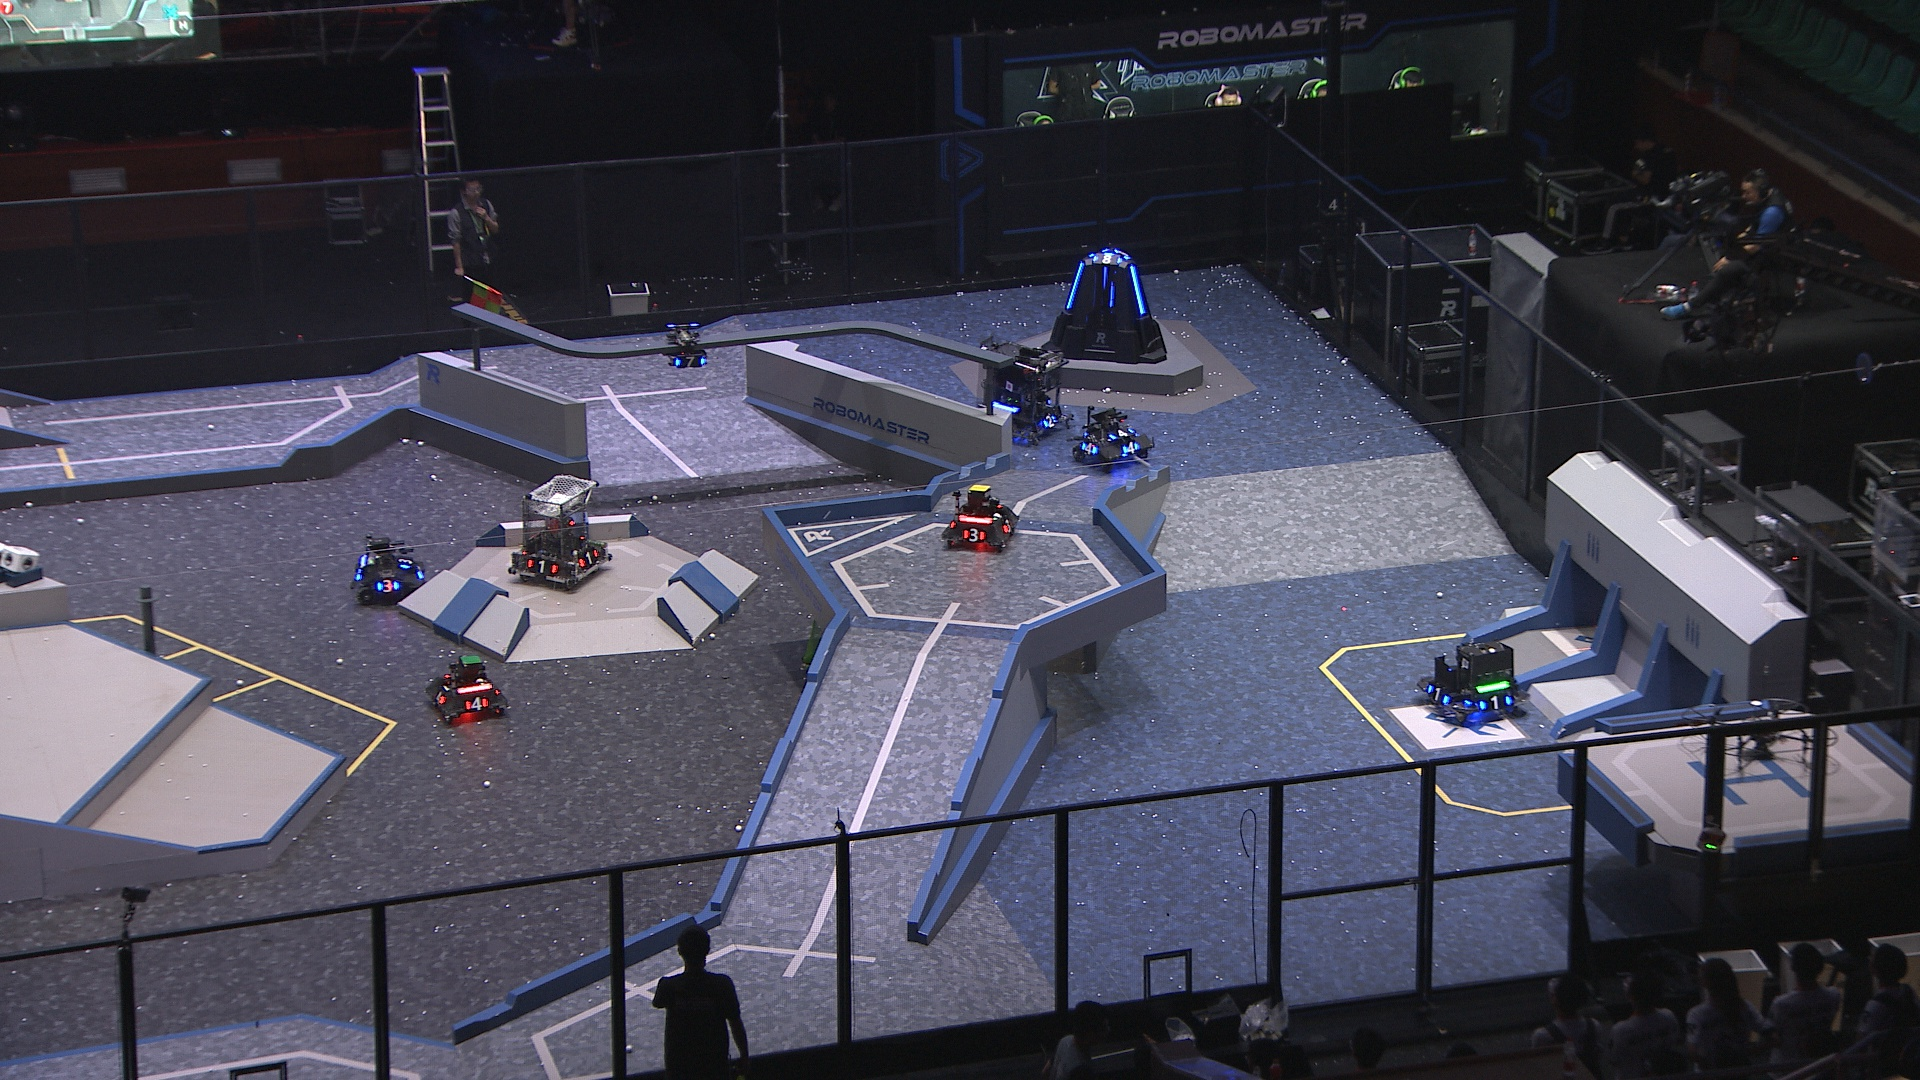armor: (1126, 262, 1149, 318), (1064, 258, 1087, 313), (1477, 694, 1514, 712), (462, 694, 491, 713), (674, 353, 705, 371), (1106, 425, 1138, 440), (526, 559, 560, 574), (375, 578, 404, 595), (960, 526, 986, 545), (1092, 252, 1125, 266), (578, 547, 599, 568), (1427, 684, 1449, 704), (1120, 439, 1141, 456), (1079, 440, 1098, 456), (394, 555, 415, 570), (1000, 516, 1015, 534), (1100, 264, 1110, 290), (433, 690, 448, 705), (1040, 414, 1058, 429)
base: (1040, 247, 1167, 363)
car: (506, 472, 615, 591), (972, 334, 1069, 443), (1415, 636, 1528, 723), (425, 650, 510, 727), (938, 481, 1021, 553), (1068, 405, 1156, 471), (347, 531, 425, 605)
watcher: (665, 322, 709, 371)
